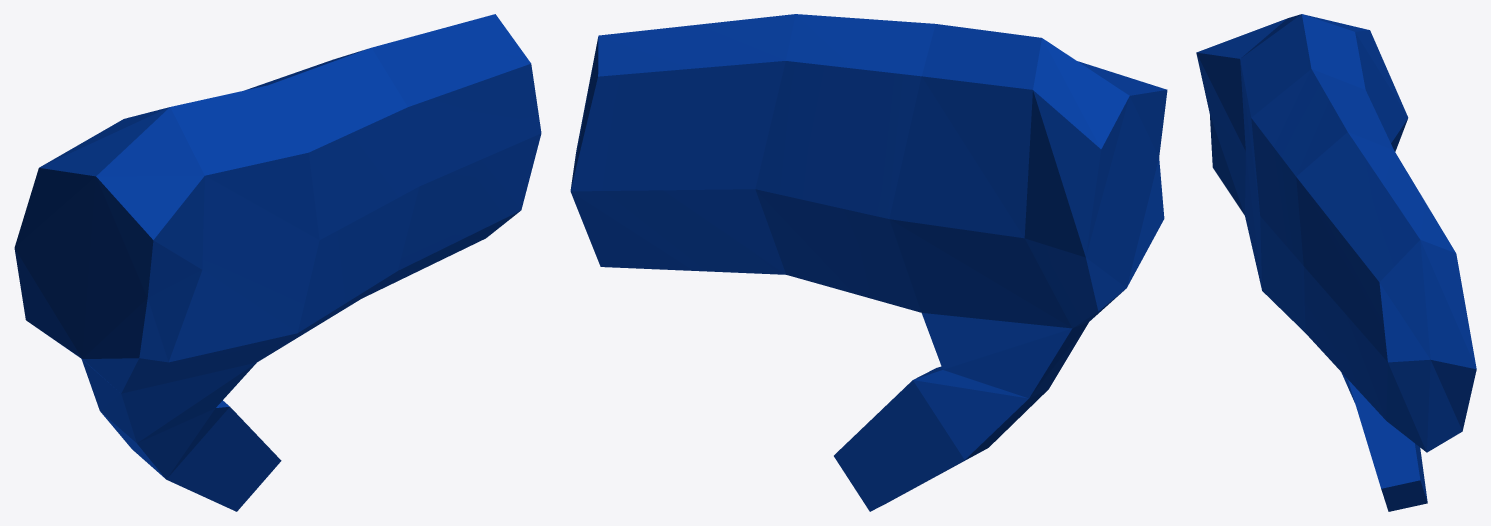
The model's file is abe_left_hand.obj.
3 views of the same model, side by side, from view 1: azimuth 30°, elevation 25°; view 2: azimuth 150°, elevation 25°; view 3: azimuth 270°, elevation 25° (orthographic). The views are drawn at different scales.
Visible parts, largest first — view 1: LeftHand.001_Hand.003; view 2: LeftHand.001_Hand.003; view 3: LeftHand.001_Hand.003.
Part boxes in pixels (bbox=[...]): LeftHand.001_Hand.003: bbox=[14, 14, 541, 511]; LeftHand.001_Hand.003: bbox=[570, 14, 1167, 511]; LeftHand.001_Hand.003: bbox=[1196, 14, 1476, 511].
Bounding box in the file's own units: 0.2299 × 0.1978 × 0.1128.
